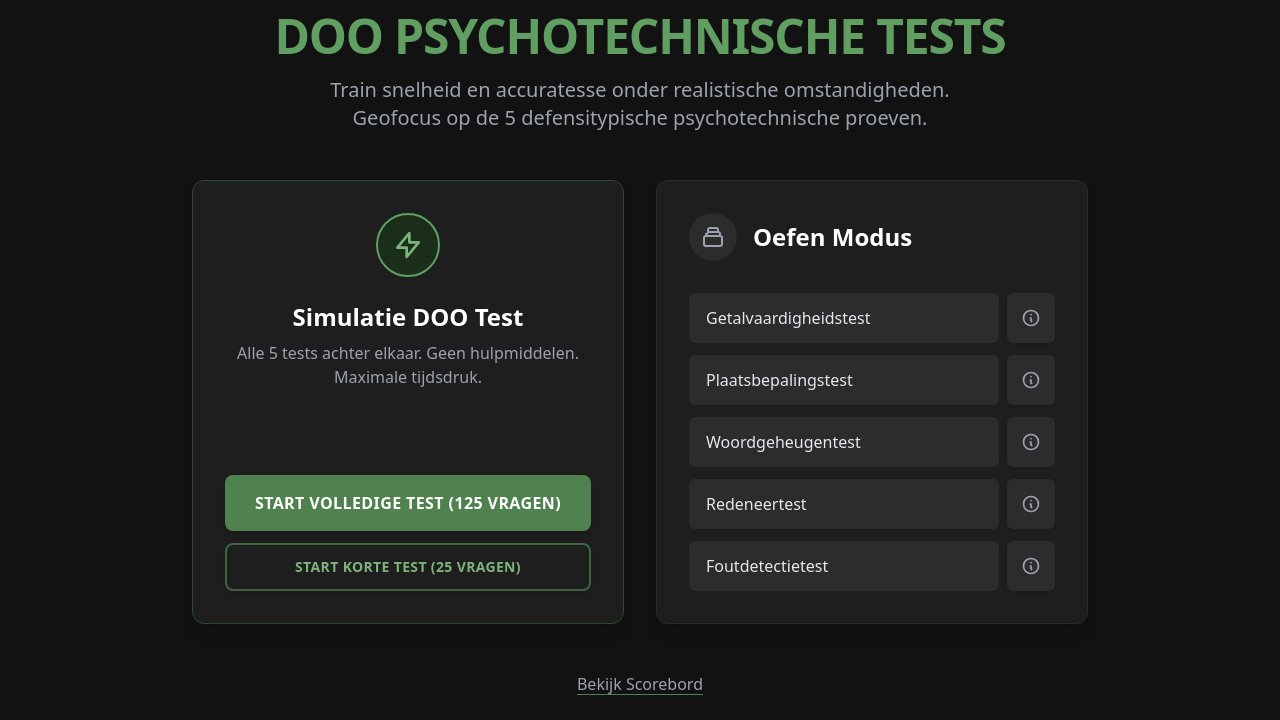
Test: Scoreboard Integration › Scoreboard loads and displays previously saved scores
The image size is (1280, 720).
(page scrolled)
Click "Bekijk Scorebord"
Click the button "Bekijk Scorebord": (640, 684) [577,672,703,696]
(page scrolled)
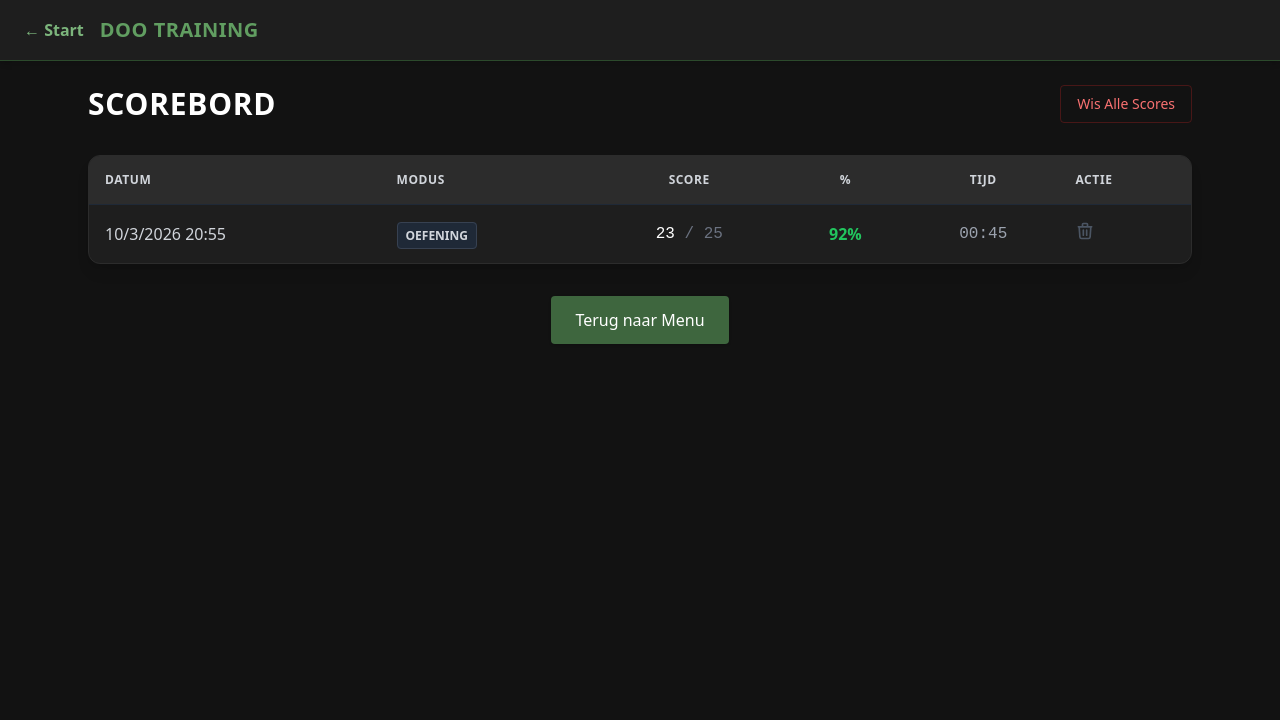
expect the text "OEFENING" is shown: met, box [396,222,477,249]
expect the text "23 / 25" is shown: met, box [595,204,784,263]
